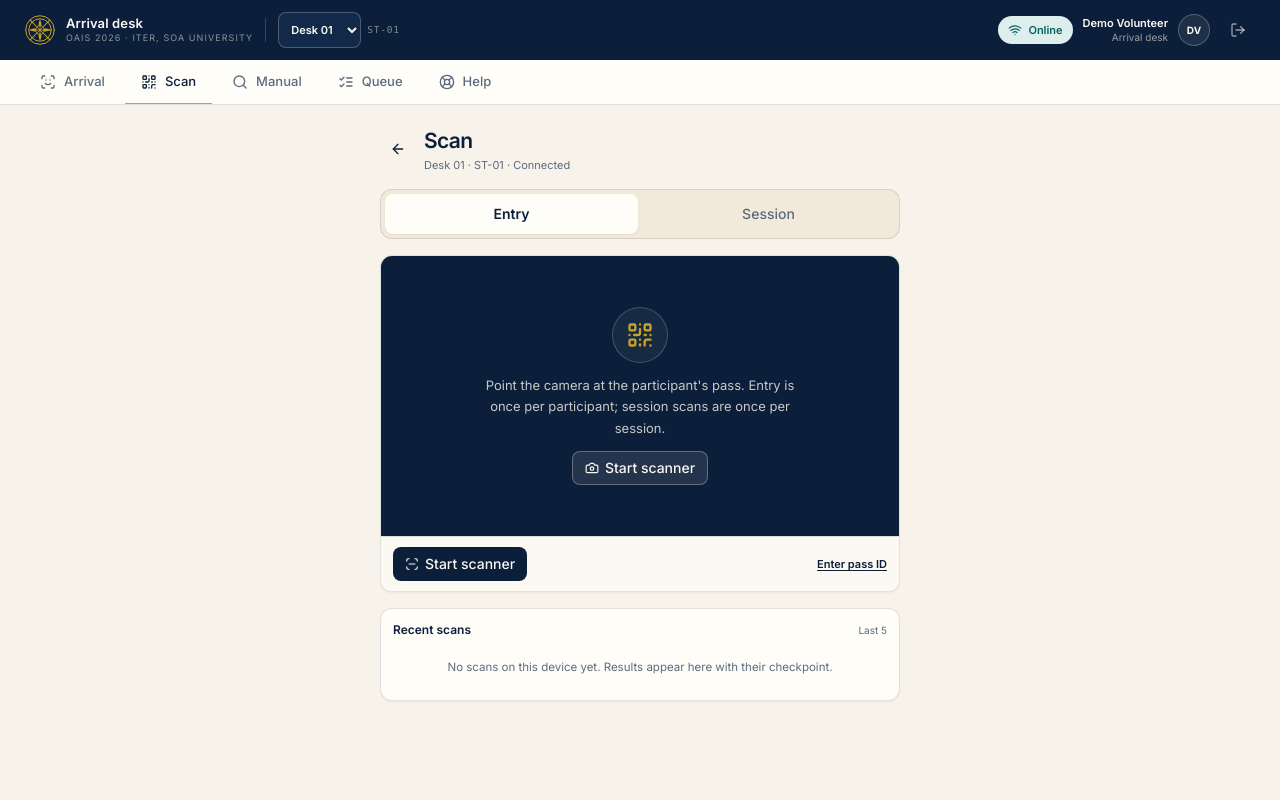
Scenario: QR scanner (§7.6) › records an entry only from the server decision
The width and height of the screenshot is (1280, 800).
Click the 1st button "Start scanner" at (640, 468), box [572,451,708,485]
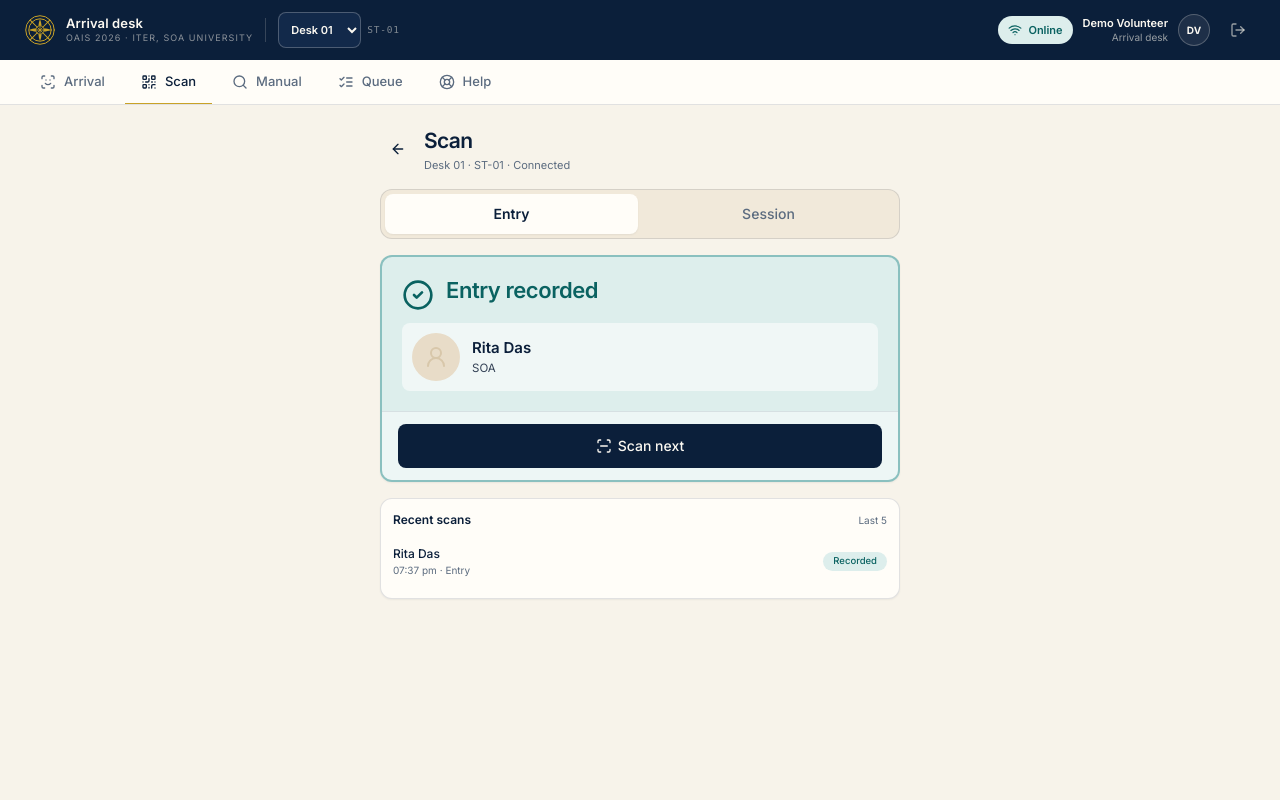
Result: the text "Entry recorded" is shown at [446,277,598,303]
Result: the 1st text "Rita Das" is shown at [472,337,531,360]
